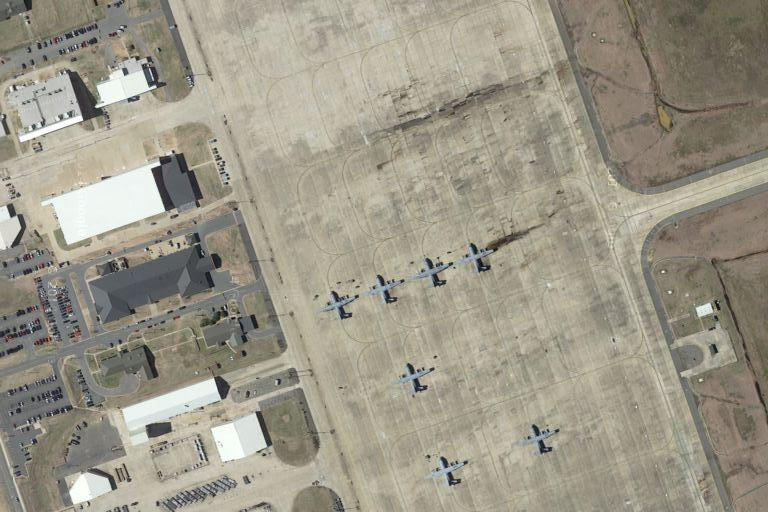C-130: (423, 452, 472, 489), (516, 421, 561, 461), (389, 360, 437, 397), (316, 286, 361, 325), (412, 255, 453, 295), (363, 272, 406, 309), (456, 240, 497, 277)
